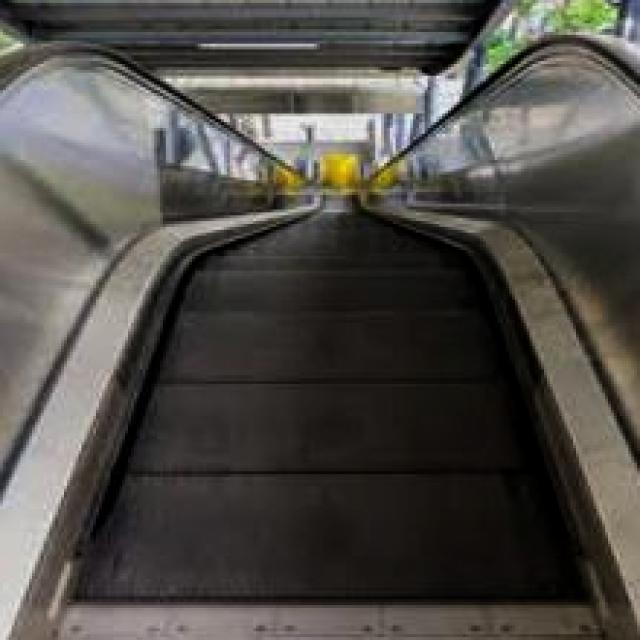downstair: (62, 406, 574, 630)
